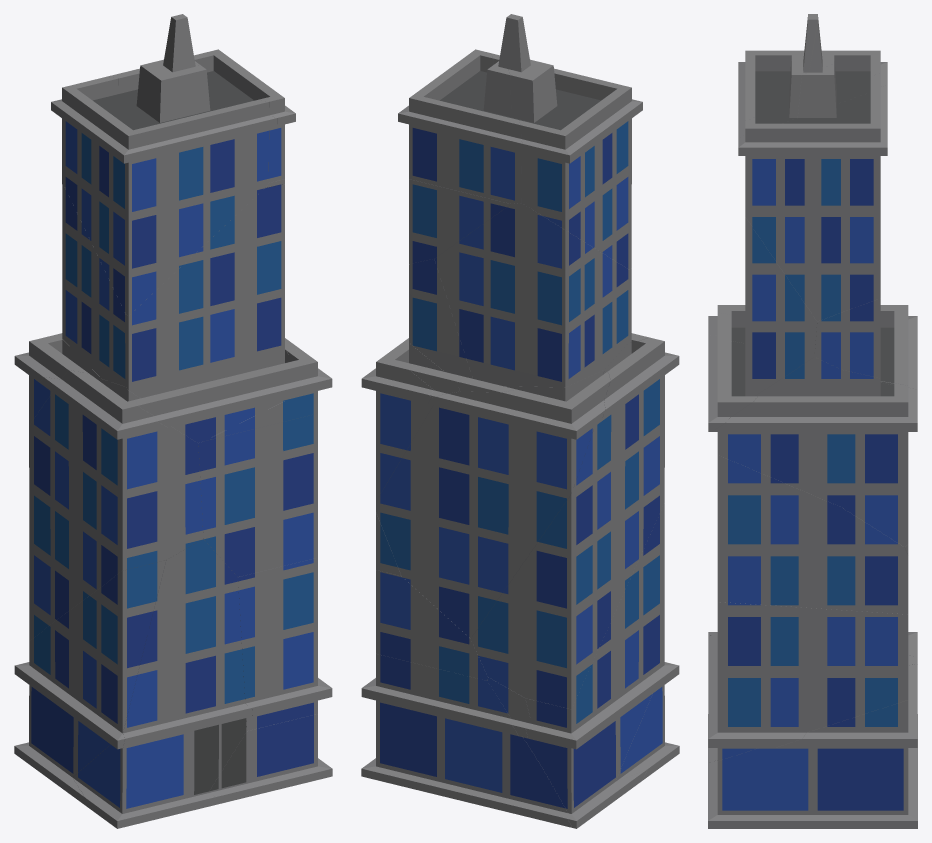
File: HighHouse 1.2 Fractured.fbx
3 views of the same model, side by side, from view 1: azimuth 30°, elevation 25°; view 2: azimuth 150°, elevation 25°; view 3: azimuth 270°, elevation 25° (orthographic). The views are drawn at different scales.
Parts seen in each view (by area): view 1: HighHouse_1_02_Breaking_cell.009, HighHouse_1_02_Breaking_cell.007, HighHouse_1_02_Breaking_cell.006, HighHouse_1_02_Breaking_cell, HighHouse_1_02_Breaking_cell.013, HighHouse_1_02_Breaking_cell.002, HighHouse_1_02_Breaking_cell.005, HighHouse_1_02_Breaking_cell.008, HighHouse_1_02_Breaking_cell.003, HighHouse_1_02_Breaking_cell.001, HighHouse_1_02_Breaking_cell.011, HighHouse_1_02_Breaking_cell.014; view 2: HighHouse_1_02_Breaking_cell.011, HighHouse_1_02_Breaking_cell.007, HighHouse_1_02_Breaking_cell.008, HighHouse_1_02_Breaking_cell.003, HighHouse_1_02_Breaking_cell.009, HighHouse_1_02_Breaking_cell.013, HighHouse_1_02_Breaking_cell.001, HighHouse_1_02_Breaking_cell.005, HighHouse_1_02_Breaking_cell.010, HighHouse_1_02_Breaking_cell.012, HighHouse_1_02_Breaking_cell.004, HighHouse_1_02_Breaking_cell (+1 smaller); view 3: HighHouse_1_02_Breaking_cell.005, HighHouse_1_02_Breaking_cell.002, HighHouse_1_02_Breaking_cell.003, HighHouse_1_02_Breaking_cell.001, HighHouse_1_02_Breaking_cell.014, HighHouse_1_02_Breaking_cell.006, HighHouse_1_02_Breaking_cell.010, HighHouse_1_02_Breaking_cell.004, HighHouse_1_02_Breaking_cell.009, HighHouse_1_02_Breaking_cell.012, HighHouse_1_02_Breaking_cell.011, HighHouse_1_02_Breaking_cell (+1 smaller).
Boxes of the visible parts, x1,y1,x2,y2 form: HighHouse_1_02_Breaking_cell.009: (51,14,277,315); HighHouse_1_02_Breaking_cell.007: (29,370,203,640); HighHouse_1_02_Breaking_cell.006: (126,184,332,443); HighHouse_1_02_Breaking_cell: (72,539,252,828); HighHouse_1_02_Breaking_cell.013: (14,560,165,801); HighHouse_1_02_Breaking_cell.002: (198,413,317,576); HighHouse_1_02_Breaking_cell.005: (238,557,332,730); HighHouse_1_02_Breaking_cell.008: (62,182,125,386); HighHouse_1_02_Breaking_cell.003: (24,714,332,806); HighHouse_1_02_Breaking_cell.001: (107,49,295,182); HighHouse_1_02_Breaking_cell.011: (14,333,101,425); HighHouse_1_02_Breaking_cell.014: (204,338,323,441); HighHouse_1_02_Breaking_cell.011: (376,370,610,638); HighHouse_1_02_Breaking_cell.007: (471,337,679,709); HighHouse_1_02_Breaking_cell.008: (434,203,628,392); HighHouse_1_02_Breaking_cell.003: (361,654,572,827); HighHouse_1_02_Breaking_cell.009: (491,14,642,269); HighHouse_1_02_Breaking_cell.013: (525,503,679,828); HighHouse_1_02_Breaking_cell.001: (398,19,522,203); HighHouse_1_02_Breaking_cell.005: (376,570,487,680); HighHouse_1_02_Breaking_cell.010: (361,338,444,500); HighHouse_1_02_Breaking_cell.012: (409,259,472,397); HighHouse_1_02_Breaking_cell.004: (409,179,510,263); HighHouse_1_02_Breaking_cell: (487,662,679,781); HighHouse_1_02_Breaking_cell.005: (708,602,908,760); HighHouse_1_02_Breaking_cell.002: (717,455,908,614); HighHouse_1_02_Breaking_cell.003: (708,664,917,828); HighHouse_1_02_Breaking_cell.001: (738,21,887,211); HighHouse_1_02_Breaking_cell.014: (712,357,841,506); HighHouse_1_02_Breaking_cell.006: (708,217,817,431); HighHouse_1_02_Breaking_cell.010: (841,369,917,546); HighHouse_1_02_Breaking_cell.004: (745,211,880,321); HighHouse_1_02_Breaking_cell.009: (738,14,887,138); HighHouse_1_02_Breaking_cell.012: (814,298,917,389); HighHouse_1_02_Breaking_cell.011: (880,305,917,555); HighHouse_1_02_Breaking_cell: (708,635,917,762).
Size of the model in its own units: 551 by 1825 by 456.
